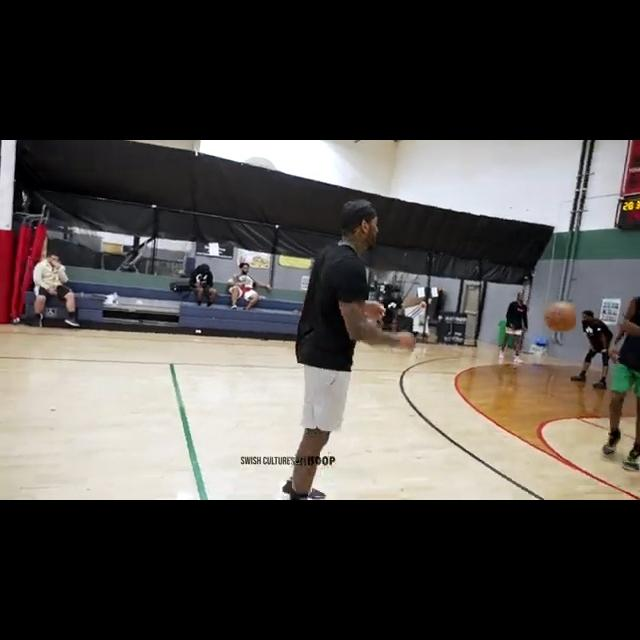basketball: (545, 300, 577, 332)
